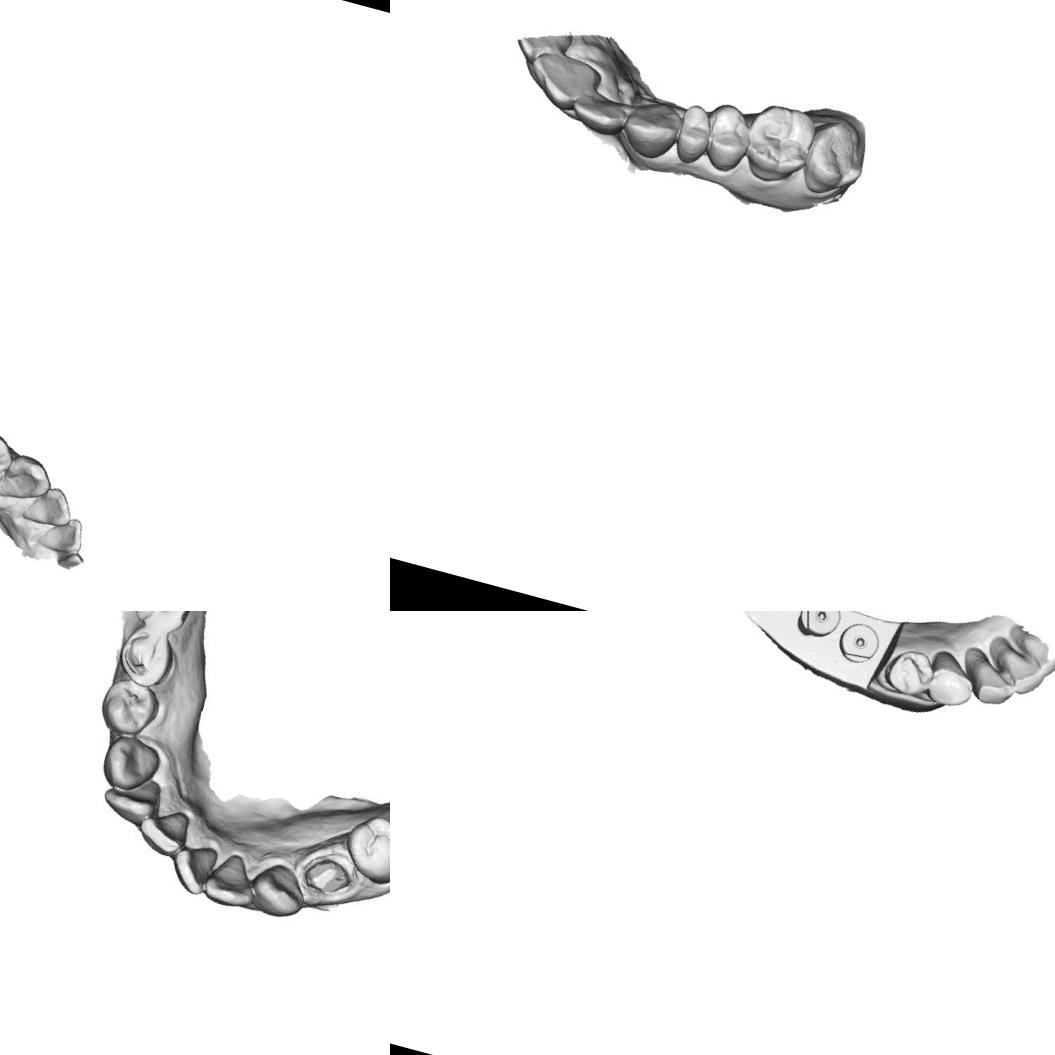canine: (614, 92, 686, 166), (250, 854, 314, 921), (103, 730, 163, 792), (0, 447, 57, 509)
crown: (294, 844, 362, 910), (879, 643, 938, 702)
implant: (832, 617, 884, 669), (791, 611, 844, 644)
incisor: (520, 45, 606, 118), (99, 767, 166, 832), (201, 849, 266, 913), (922, 645, 980, 712), (135, 804, 193, 866), (565, 86, 630, 140), (990, 643, 1050, 700), (168, 837, 222, 898), (964, 656, 1022, 710), (18, 479, 77, 532), (32, 508, 88, 558)
molar: (735, 97, 819, 190), (796, 114, 875, 204), (344, 811, 390, 883), (125, 611, 207, 633)
premolar: (694, 98, 758, 178), (100, 672, 166, 740), (117, 624, 179, 688), (668, 100, 716, 169), (0, 423, 18, 486)
